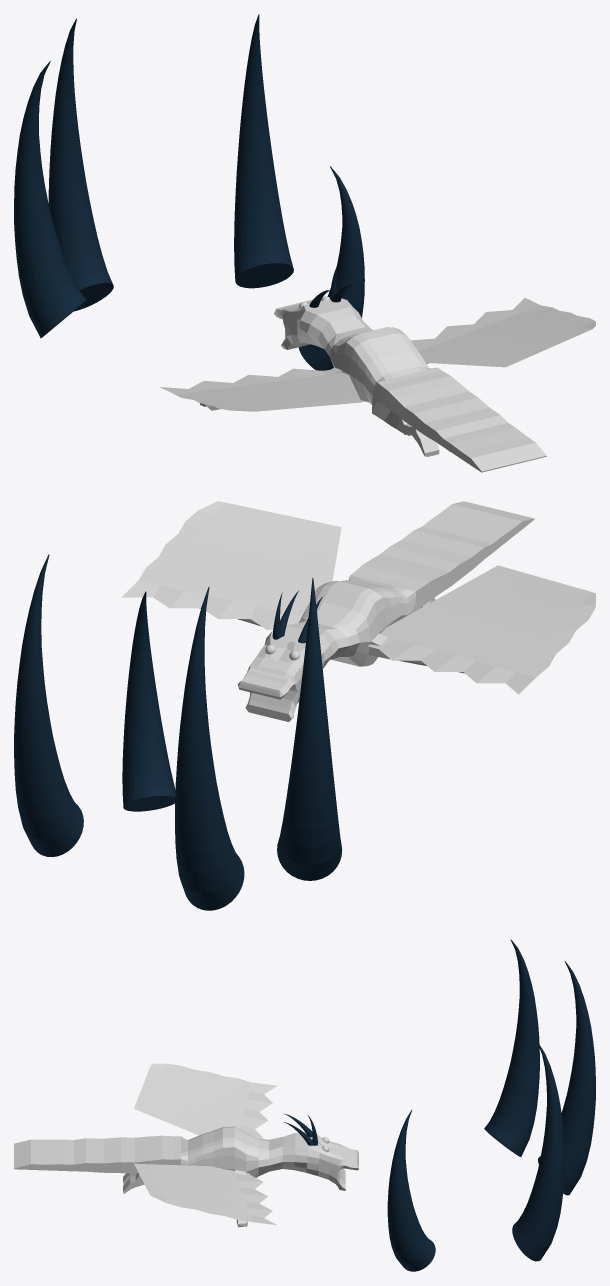
The model's file is Wyver.fbx.
3 views of the same model, one above another, from view 1: azimuth 30°, elevation 25°; view 2: azimuth 150°, elevation 25°; view 3: azimuth 270°, elevation 25° (orthographic). The views are drawn at different scales.
Parts seen in each view (by area): view 1: Cube, Plane, Cylinder.001, Cylinder.004, Cylinder.002, Cylinder.003; view 2: Plane, Cube, Cylinder.002, Cylinder.004, Cylinder.001, Cylinder.003; view 3: Plane, Cube, Cylinder.004, Cylinder.001, Cylinder.002, Cylinder.003.
Boxes of the visible parts, box(x1,y1,x2,y2) form: Cube: box(200, 298, 546, 472); Plane: box(160, 298, 595, 411); Cylinder.001: box(234, 14, 293, 288); Cylinder.004: box(14, 61, 86, 338); Cylinder.002: box(48, 18, 113, 311); Cylinder.003: box(298, 166, 364, 370); Plane: box(121, 501, 595, 694); Cube: box(199, 501, 534, 721); Cylinder.002: box(175, 587, 244, 910); Cylinder.004: box(277, 578, 341, 880); Cylinder.001: box(14, 554, 83, 856); Cylinder.003: box(122, 591, 175, 811); Plane: box(134, 1063, 277, 1225); Cube: box(14, 1126, 358, 1226); Cylinder.004: box(484, 939, 539, 1156); Cylinder.001: box(512, 1042, 564, 1261); Cylinder.002: box(538, 961, 595, 1195); Cylinder.003: box(387, 1110, 435, 1271).
Bounding box in the file's own units: 571 × 469 × 992.
